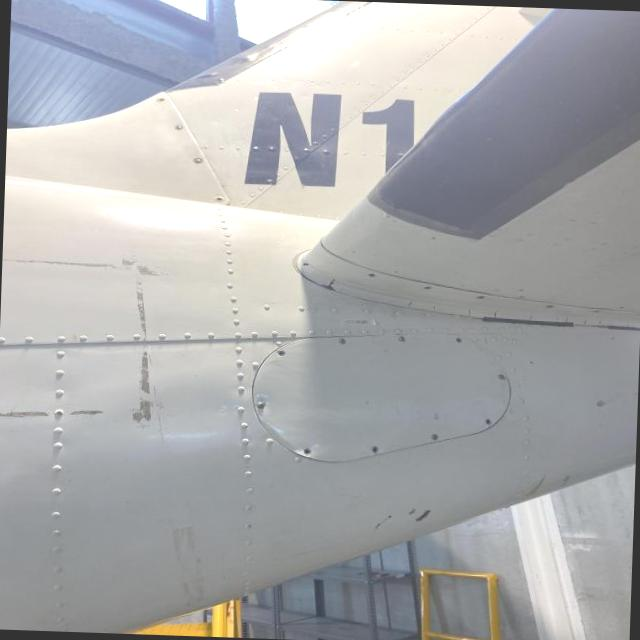Missing Fastener: (301, 446, 310, 454), (212, 194, 222, 201), (275, 348, 285, 355), (371, 445, 378, 453), (484, 418, 491, 424), (454, 336, 460, 342), (366, 272, 374, 276), (422, 284, 430, 288), (476, 294, 484, 298)
